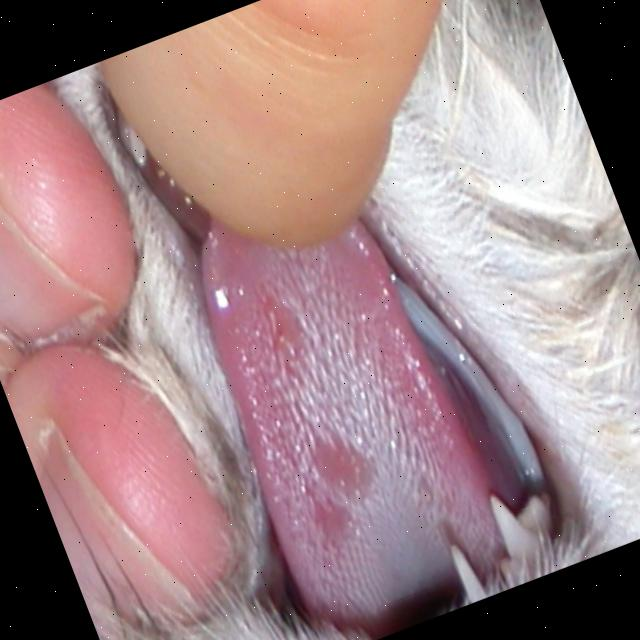cat-ulcer: (312, 430, 376, 506), (264, 298, 308, 360), (316, 496, 356, 542)
